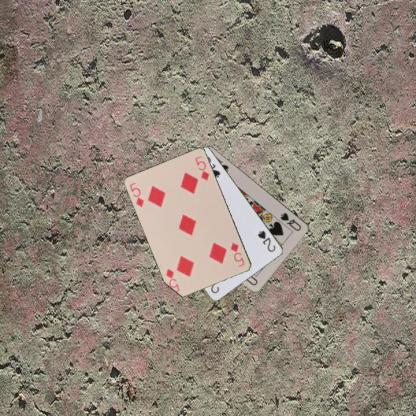2s: (255, 228, 277, 253)
5d: (127, 180, 146, 209), (228, 240, 246, 268)
Qs: (277, 210, 303, 232)
